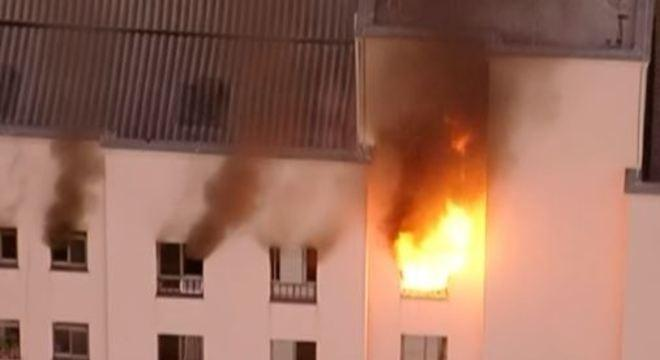fire: (403, 200, 465, 293)
smoke: (208, 180, 255, 227)
